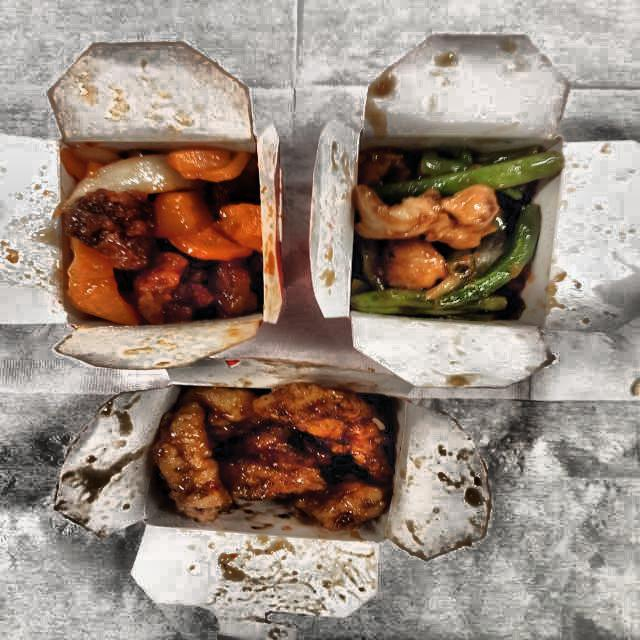Food: (342, 130, 558, 324), (55, 145, 266, 330), (152, 378, 401, 528)
